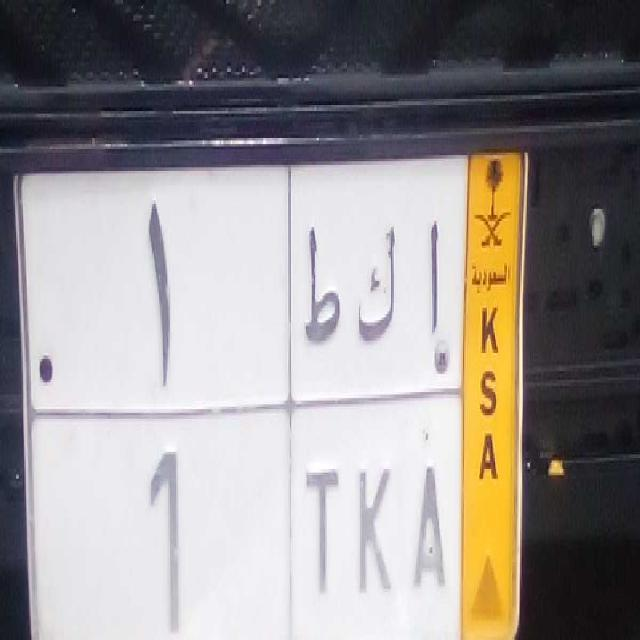license_plate: (31, 403, 465, 640)
